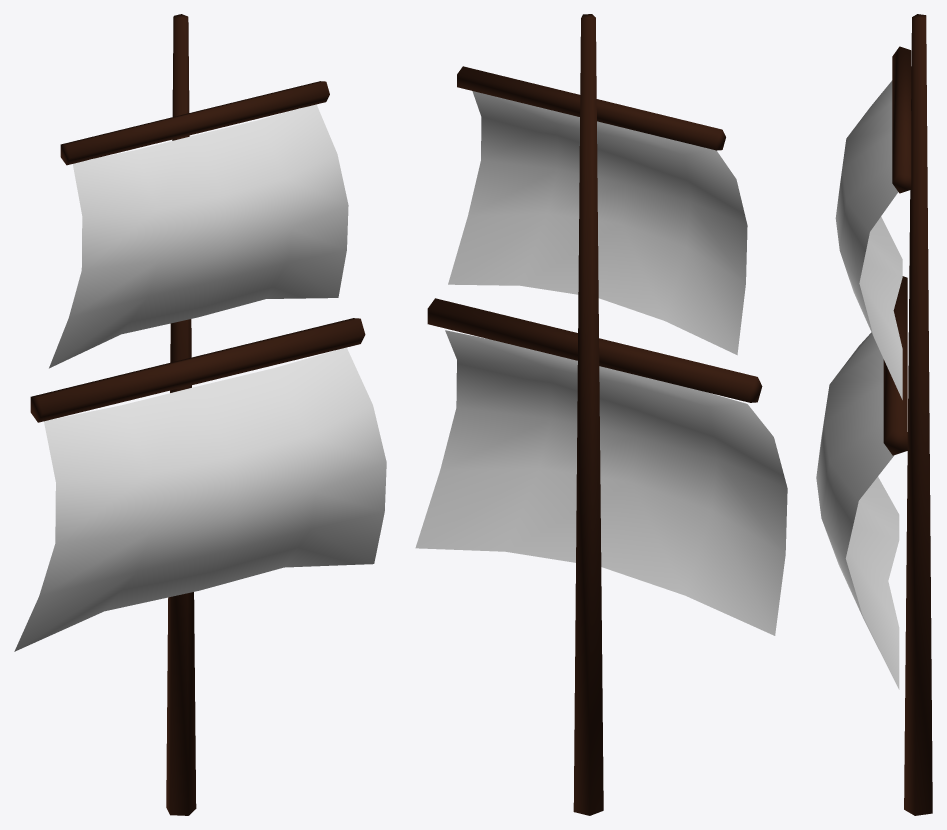
File: mizzenmast.obj
3 renders of one model, left to right at view 1: azimuth 30°, elevation 25°; view 2: azimuth 150°, elevation 25°; view 3: azimuth 270°, elevation 25°, orthographic.
Visible parts, largest first — view 1: Plane.005_Plane.001_SailCloth, Plane.004_Plane.001_SailCloth, Cylinder.008_Cylinder.001_Wood, Cylinder.006_Cylinder_Wood, Cylinder.007_Cylinder.001_Wood; view 2: Plane.005_Plane.001_SailCloth, Plane.004_Plane.001_SailCloth, Cylinder.006_Cylinder_Wood, Cylinder.008_Cylinder.001_Wood, Cylinder.007_Cylinder.001_Wood; view 3: Cylinder.006_Cylinder_Wood, Plane.005_Plane.001_SailCloth, Plane.004_Plane.001_SailCloth, Cylinder.007_Cylinder.001_Wood, Cylinder.008_Cylinder.001_Wood.
Part boxes in pixels (box(x1,y1,x2,y2)): Plane.005_Plane.001_SailCloth: box(14, 347, 386, 651); Plane.004_Plane.001_SailCloth: box(49, 104, 348, 368); Cylinder.008_Cylinder.001_Wood: box(30, 318, 365, 422); Cylinder.006_Cylinder_Wood: box(166, 14, 196, 815); Cylinder.007_Cylinder.001_Wood: box(60, 81, 329, 165); Plane.005_Plane.001_SailCloth: box(415, 330, 787, 635); Plane.004_Plane.001_SailCloth: box(448, 91, 747, 355); Cylinder.006_Cylinder_Wood: box(573, 14, 603, 815); Cylinder.008_Cylinder.001_Wood: box(427, 298, 762, 402); Cylinder.007_Cylinder.001_Wood: box(457, 66, 725, 150); Cylinder.006_Cylinder_Wood: box(904, 14, 932, 815); Plane.005_Plane.001_SailCloth: box(816, 332, 899, 689); Plane.004_Plane.001_SailCloth: box(835, 80, 902, 399); Cylinder.007_Cylinder.001_Wood: box(892, 46, 911, 193); Cylinder.008_Cylinder.001_Wood: box(883, 276, 907, 455).
Bounding box in the file's own units: 1.81 × 3.8 × 0.5058.
